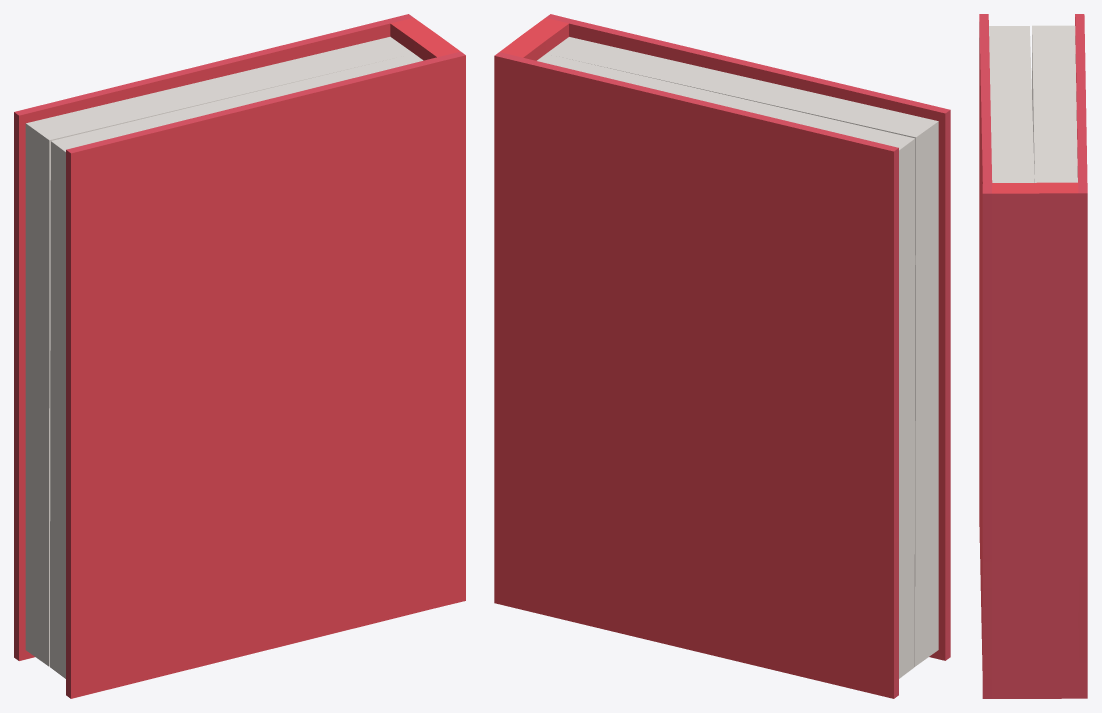
Rendered from book 2.fbx.
3 renders of one model, left to right at view 1: azimuth 30°, elevation 25°; view 2: azimuth 150°, elevation 25°; view 3: azimuth 270°, elevation 25°, orthographic. The views are drawn at different scales.
Visible parts, largest first — view 1: book 3; view 2: book 3; view 3: book 3.
Boxes of the visible parts, x1,y1,x2,y2 form: book 3: (14, 14, 465, 698); book 3: (494, 14, 950, 698); book 3: (979, 14, 1087, 698).
Bounding box in the file's own units: 155 × 204 × 39.63.
1 material, 1 textured.
